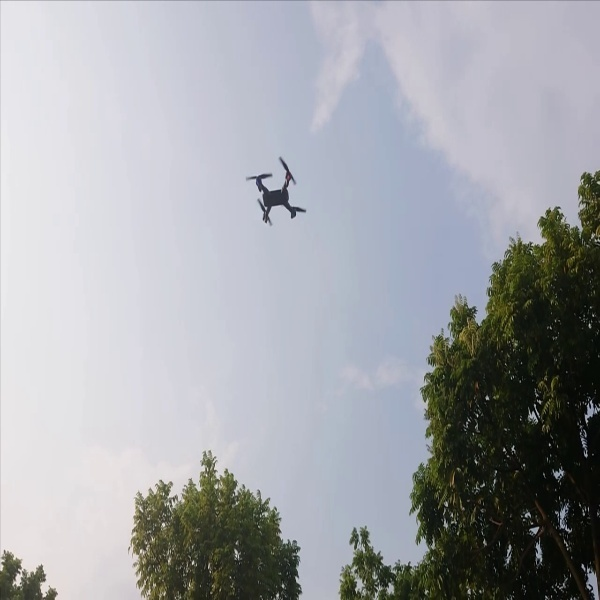drone: (245, 156, 310, 229)
